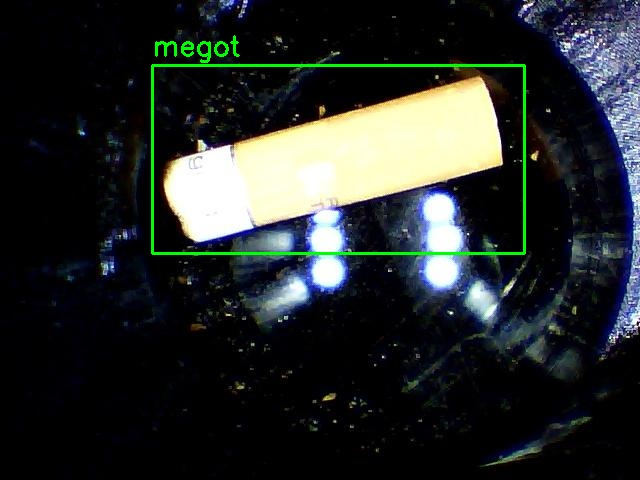megot: (152, 65, 524, 253)
